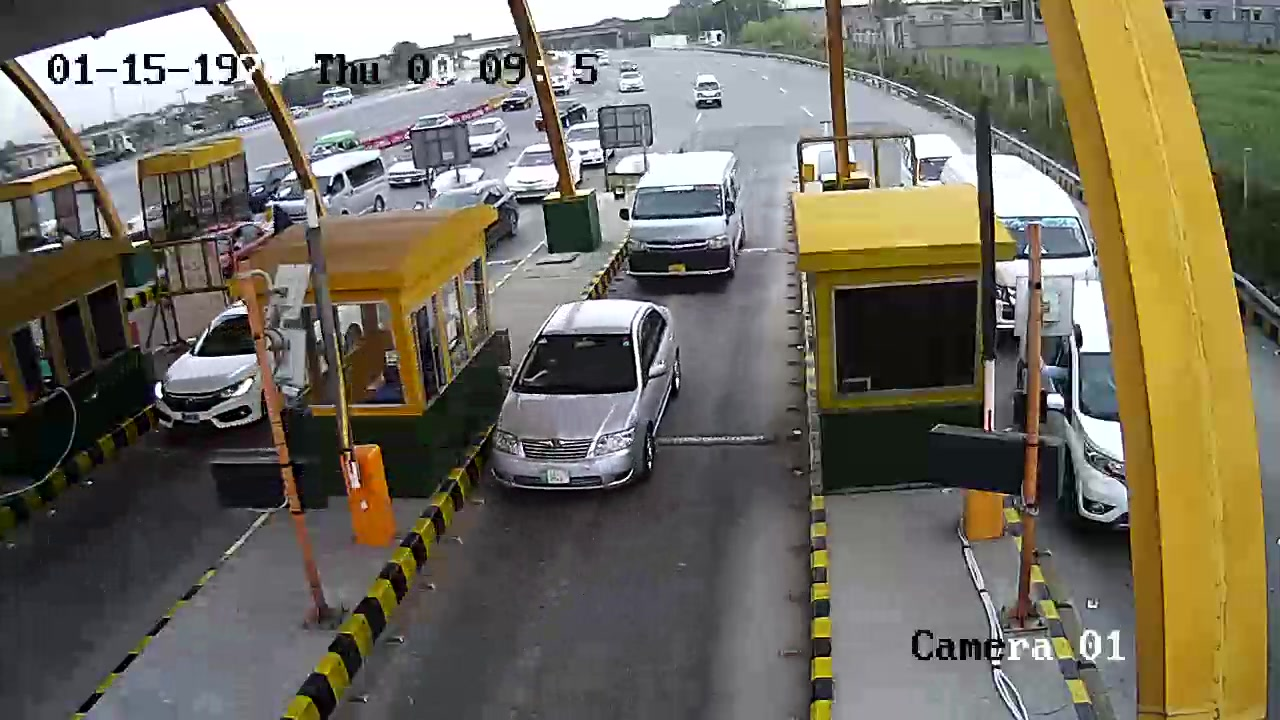F1: (481, 293, 680, 531)
